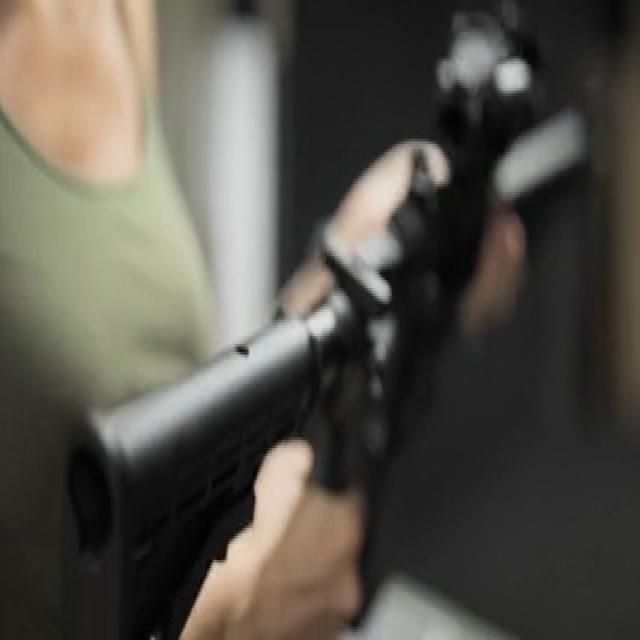Gun_Holder: (58, 0, 640, 632)
